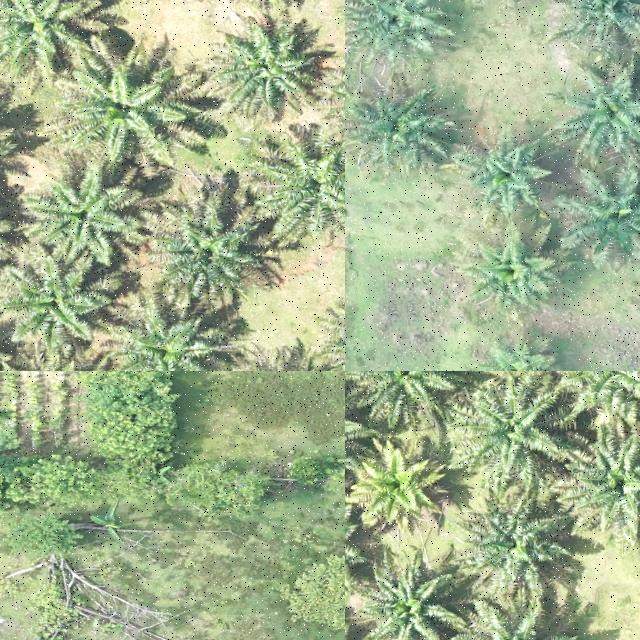Ganoderma: (359, 458, 425, 519)
